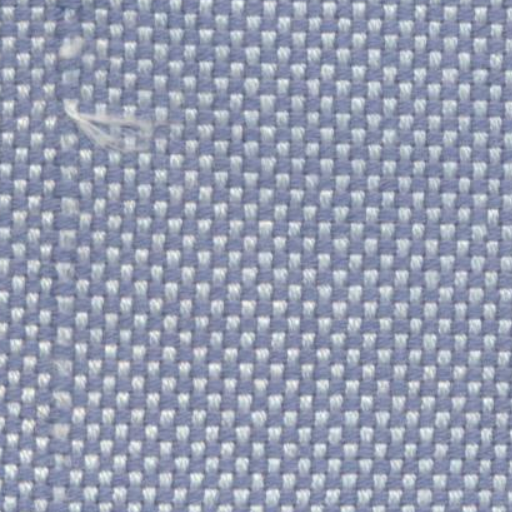DuanSha: (48, 82, 164, 162)
